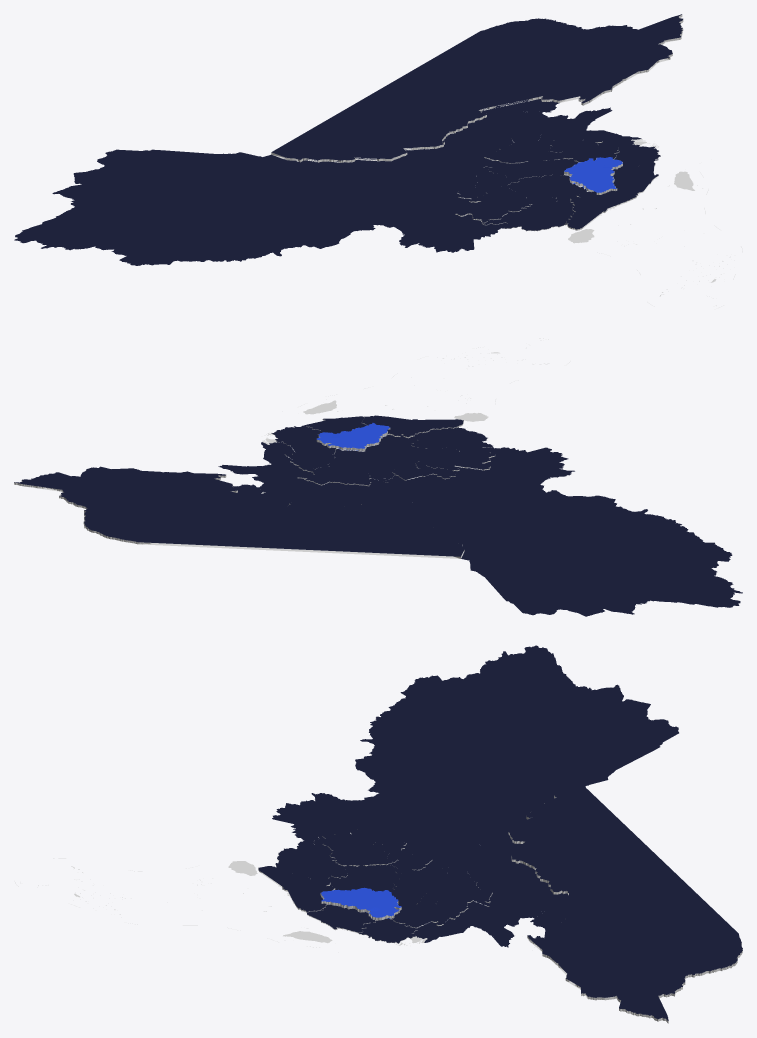
File: 江西省地图.fbx
3 renders of one model, top to bottom at view 1: azimuth 30°, elevation 25°; view 2: azimuth 150°, elevation 25°; view 3: azimuth 270°, elevation 25°, orthographic. The views are drawn at different scales.
Parts seen in each view (by area): view 1: china.008, china.303, china.290, china.299, china.021, china.294, china.282, china.289, china.020, china.141, china.003, china.291 (+13 smaller); view 2: china.008, china.303, china.290, china.021, china.299, china.294, china.282, china.289, china.020, china.141, china.291, china.003 (+13 smaller); view 3: china.008, china.303, china.290, china.021, china.299, china.294, china.282, china.289, china.020, china.141, china.291, china.003 (+13 smaller).
Boxes of the visible parts, box(x1,y1,x2,y2) form: china.008: box(271, 26, 582, 162); china.303: box(14, 149, 264, 250); china.290: box(111, 204, 388, 265); china.299: box(218, 166, 390, 221); china.021: box(488, 14, 683, 59); china.294: box(236, 154, 457, 188); china.282: box(335, 175, 479, 224); china.289: box(383, 205, 507, 252); china.020: box(546, 50, 672, 81); china.141: box(482, 196, 575, 231); china.003: box(481, 99, 559, 138); china.291: box(427, 130, 499, 180); china.008: box(96, 488, 464, 558); china.303: box(469, 544, 742, 616); china.290: box(516, 488, 732, 569); china.021: box(14, 469, 158, 542); china.299: box(437, 502, 594, 557); china.294: box(377, 491, 535, 560); china.282: box(404, 466, 528, 517); china.289: box(466, 447, 574, 491); china.020: box(86, 466, 178, 505); china.141: box(411, 427, 495, 456); china.291: box(334, 475, 432, 508); china.003: box(233, 480, 322, 506); china.008: box(508, 788, 739, 965); china.303: box(464, 645, 678, 785); china.290: box(355, 675, 494, 802); china.021: box(596, 936, 742, 1023); china.299: box(425, 745, 534, 826); china.294: box(438, 761, 585, 861); china.282: box(343, 792, 461, 859); china.289: box(272, 793, 388, 845); china.020: box(558, 940, 636, 1000); china.141: box(275, 835, 347, 880); china.291: box(425, 842, 536, 876); china.003: box(490, 891, 568, 929).
Size of the model in its own units: 6159 by 28.46 by 5017.
